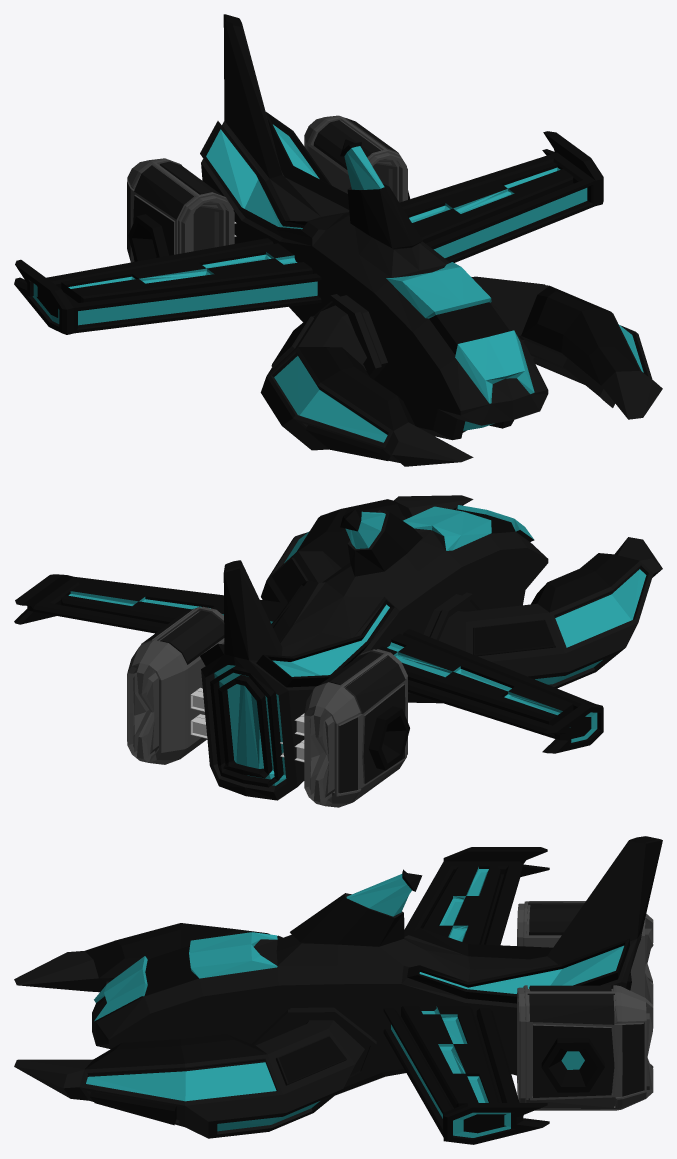
Rendered from SPACESHIP 1.obj.
3 renders of one model, top to bottom at view 1: azimuth 30°, elevation 25°; view 2: azimuth 150°, elevation 25°; view 3: azimuth 270°, elevation 25°, orthographic.
Parts seen in each view (by area): view 1: Cube_Cube.001, Plane, Torus, Circle; view 2: Cube_Cube.001, Circle, Torus, Plane, Cube.001_Cube.002; view 3: Cube_Cube.001, Torus, Plane, Circle.
Boxes of the visible parts, <box> form: Cube_Cube.001: <box>200,14,548,440</box>; Plane: <box>14,131,603,334</box>; Torus: <box>260,276,662,466</box>; Circle: <box>127,115,410,262</box>; Cube_Cube.001: <box>200,505,548,800</box>; Circle: <box>127,606,409,807</box>; Torus: <box>261,495,662,688</box>; Plane: <box>14,574,603,753</box>; Cube.001_Cube.002: <box>190,687,304,762</box>; Cube_Cube.001: <box>92,836,662,1095</box>; Torus: <box>14,923,364,1138</box>; Plane: <box>383,847,549,1144</box>; Circle: <box>517,901,653,1110</box>.
Bounding box in the file's own units: 5.12 × 2.5 × 5.38.
